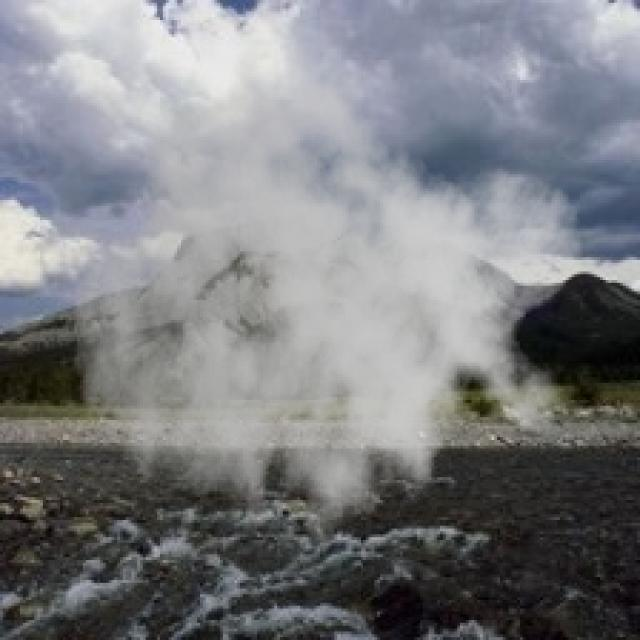smoke: (71, 40, 586, 577)
